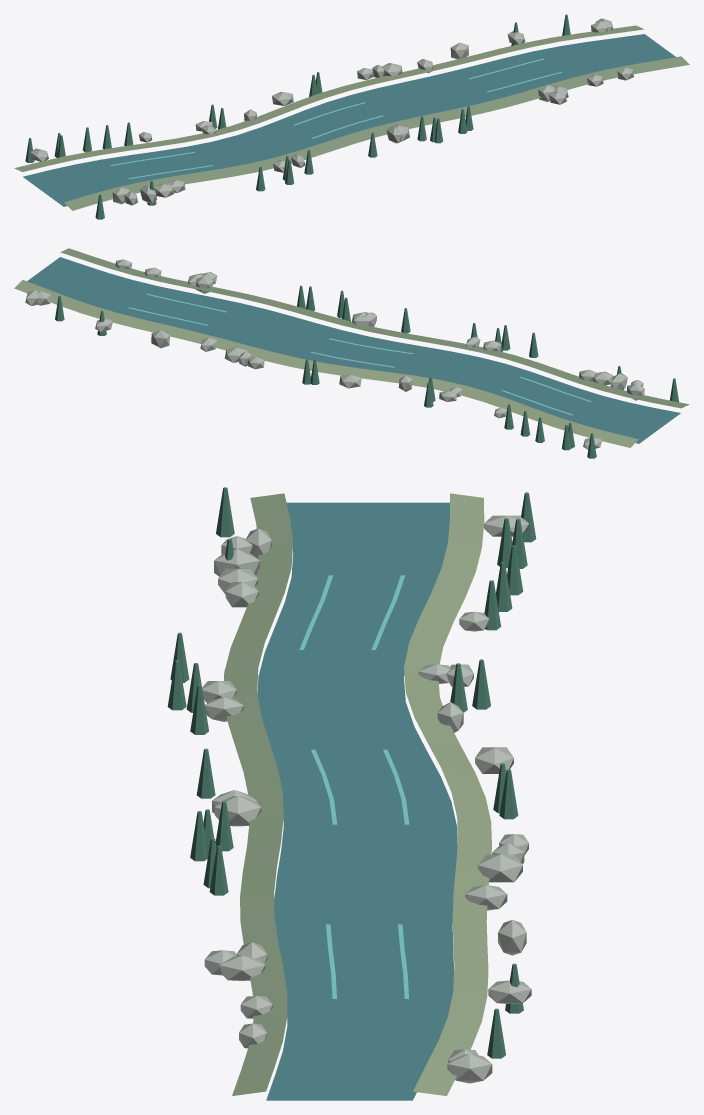
Rendered from SM_Silverbrook.fbx.
3 views of the same model, one above another, from view 1: azimuth 30°, elevation 25°; view 2: azimuth 150°, elevation 25°; view 3: azimuth 270°, elevation 25° (orthographic). The views are drawn at different scales.
Parts seen in each view (by area): view 1: SM_Silverbrook; view 2: SM_Silverbrook; view 3: SM_Silverbrook.
Part boxes in pixels (bbox=[...]): SM_Silverbrook: bbox=[14, 14, 689, 219]; SM_Silverbrook: bbox=[14, 248, 689, 458]; SM_Silverbrook: bbox=[167, 487, 536, 1100].
Bounding box in the file's own units: 11.2 × 2.92 × 0.406.
